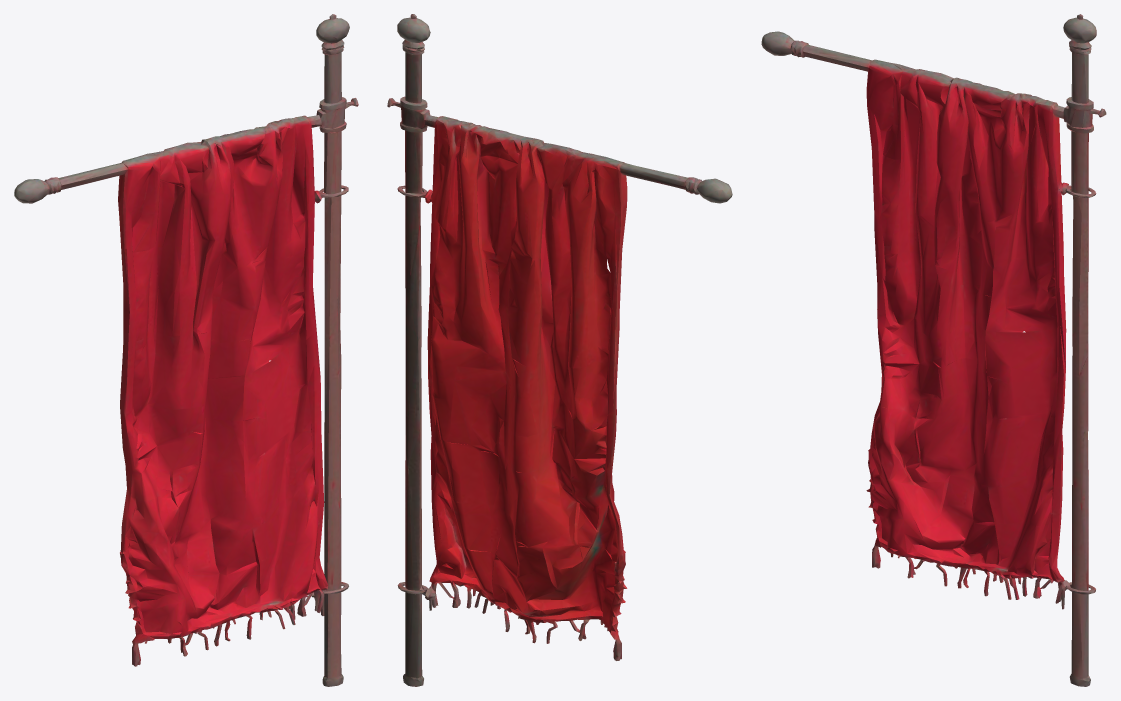
File: regime_banner_cloth.glb
3 views of the same model, side by side, from view 1: azimuth 30°, elevation 25°; view 2: azimuth 150°, elevation 25°; view 3: azimuth 330°, elevation 25° (orthographic).
Visible parts, largest first — view 1: main; view 2: main; view 3: main.
Part boxes in pixels (<box>): main: <box>14,14,358,686</box>; main: <box>387,14,732,686</box>; main: <box>761,14,1106,686</box>.
Bounding box in the file's own units: 1.96 × 3.67 × 0.3022.
Materials: 1 (1 with a texture image).
